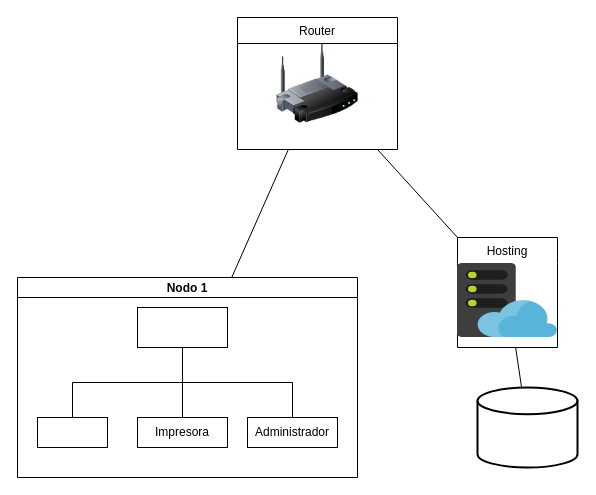
Some shapes in this 596 by 495 pixel diagram are drawn without their labels. Each missing label, with the centre of its shape:
Base de datos: point (527, 427)
PC 1: point (182, 327)
Vendedor: point (72, 432)
